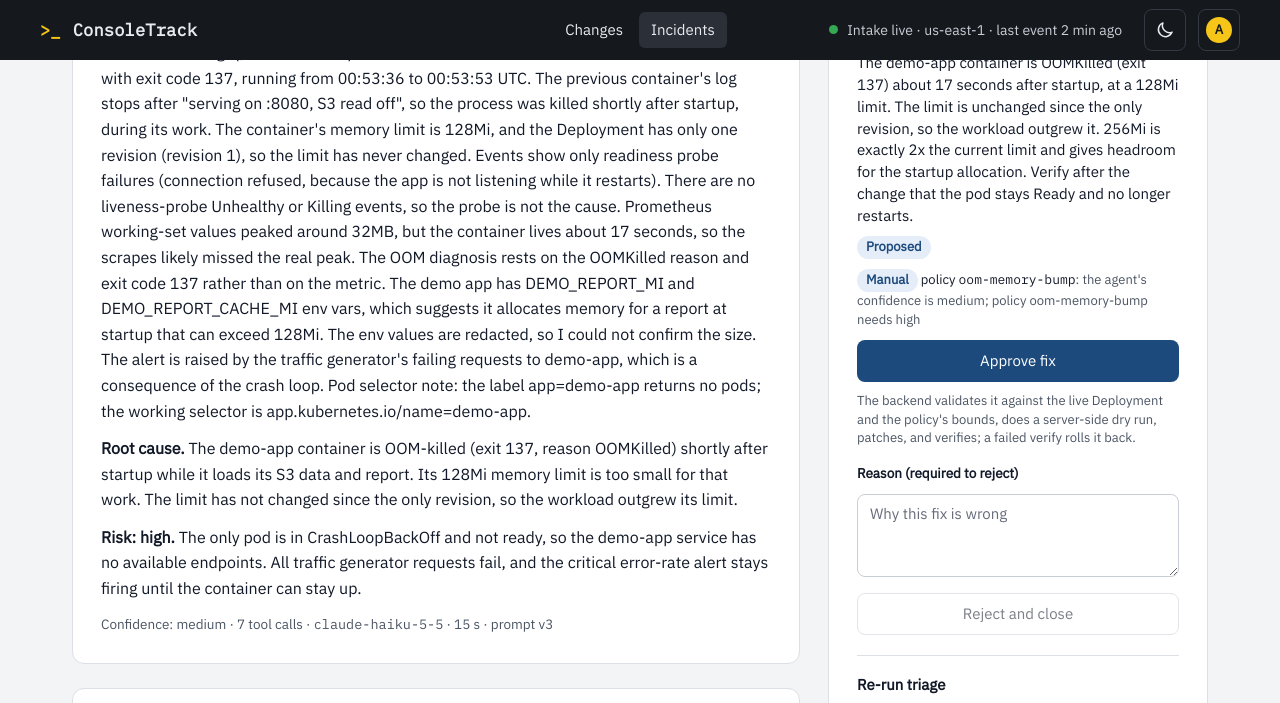
incident detail › approves a fix: the incident moves to remediating and the approval is the first step
This screenshot has width=1280, height=703.
(page scrolled)
Click the button "Approve fix". click: {"x": 1018, "y": 361}
box: [857, 340, 1179, 382]
(page scrolled)
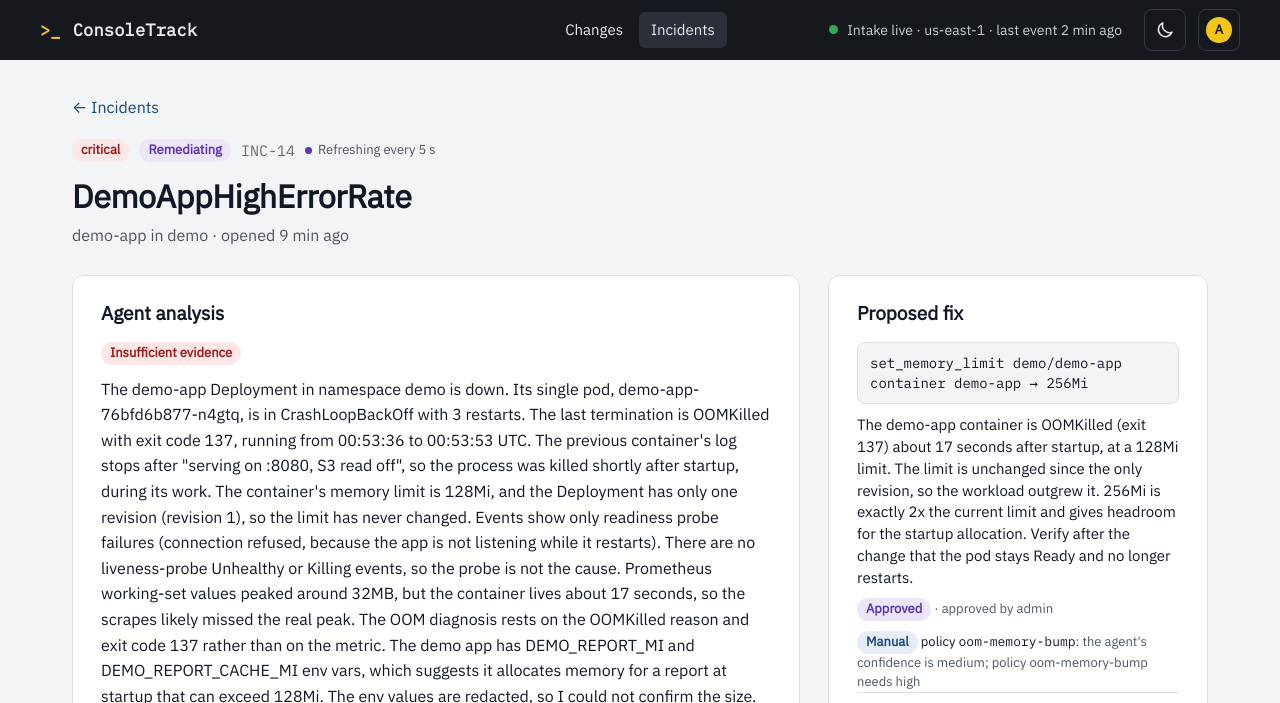
Now the text "Remediating" is shown, box [139, 139, 231, 162]
Now the button "Approve fix" is gone
Now the text "Refreshing every 5 s" is shown, box [305, 141, 436, 160]
